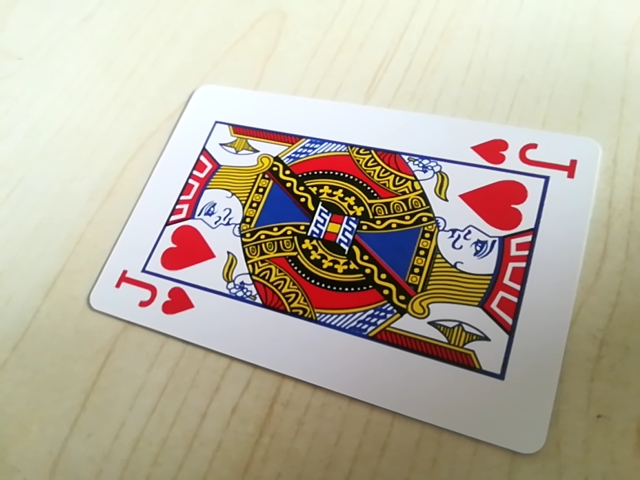hx j: (471, 136, 581, 175), (111, 278, 198, 323)
